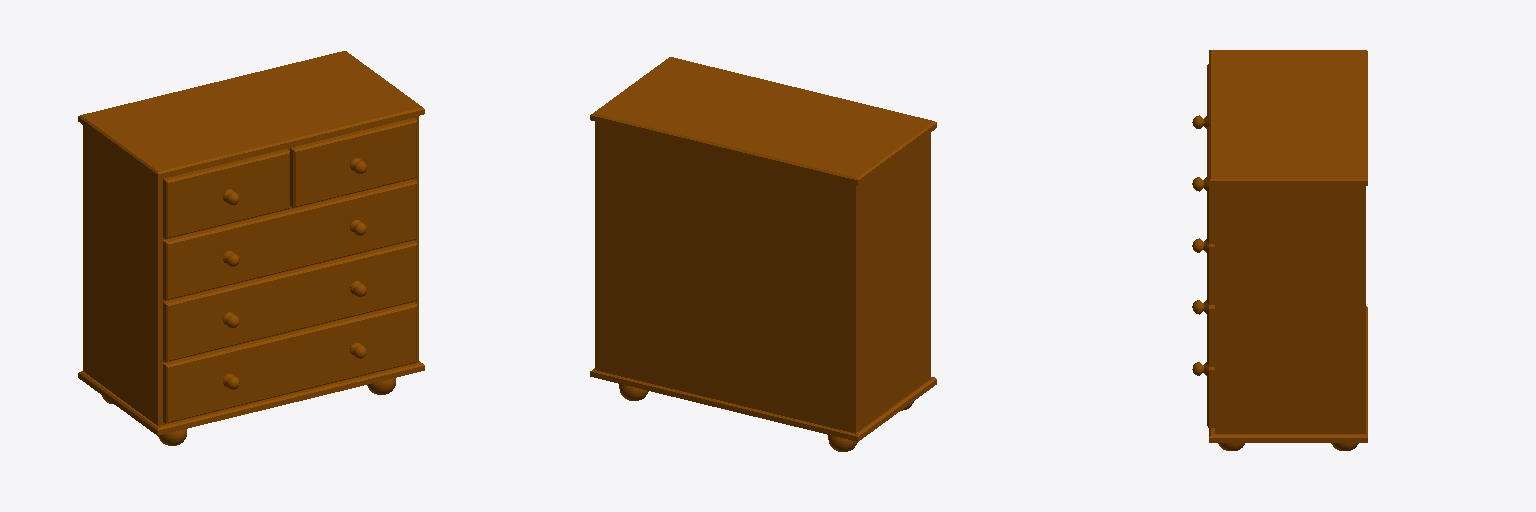
3 renders of one model, left to right at view 1: azimuth 30°, elevation 25°; view 2: azimuth 150°, elevation 25°; view 3: azimuth 270°, elevation 25°, orthographic.
Parts seen in each view (by area): view 1: corniche_haute_3, corps_2, tiroir_3_5, tiroir_bas_1_7, tiroir_2_6, tiroir_4g_4, tiroir_4d_8, corniche_basse_1; view 2: corps_2, corniche_haute_3, corniche_basse_1; view 3: corps_2, corniche_haute_3, corniche_basse_1, tiroir_4d_8.
Boxes of the visible parts, x1,y1,x2,y2 form: corniche_haute_3: [78, 51, 424, 179]; corps_2: [83, 116, 418, 425]; tiroir_3_5: [163, 179, 416, 300]; tiroir_bas_1_7: [163, 302, 416, 423]; tiroir_2_6: [163, 241, 416, 361]; tiroir_4g_4: [163, 149, 289, 238]; tiroir_4d_8: [290, 118, 416, 207]; corniche_basse_1: [78, 361, 424, 435]; corps_2: [595, 122, 930, 433]; corniche_haute_3: [590, 57, 936, 185]; corniche_basse_1: [590, 368, 936, 441]; corps_2: [1215, 186, 1365, 433]; corniche_haute_3: [1209, 50, 1367, 185]; corniche_basse_1: [1209, 306, 1367, 442]; tiroir_4d_8: [1207, 126, 1214, 243].
Bounding box in the file's own units: 82 × 83 × 46.44.